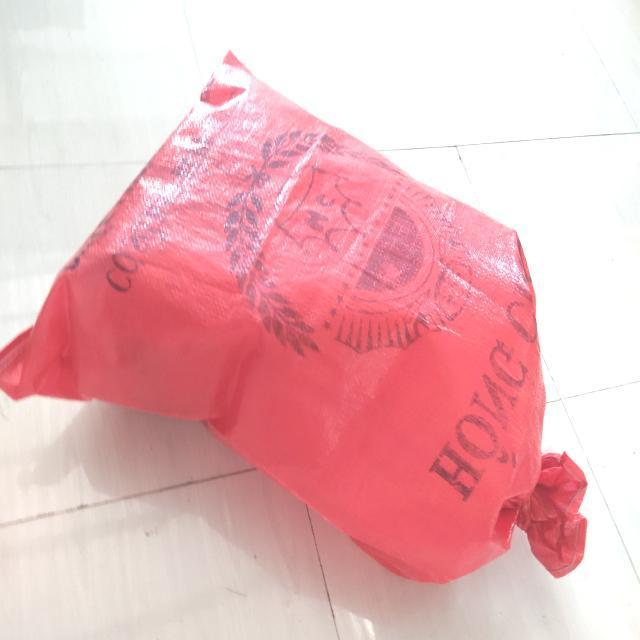gunny_bag: (0, 50, 588, 584)
